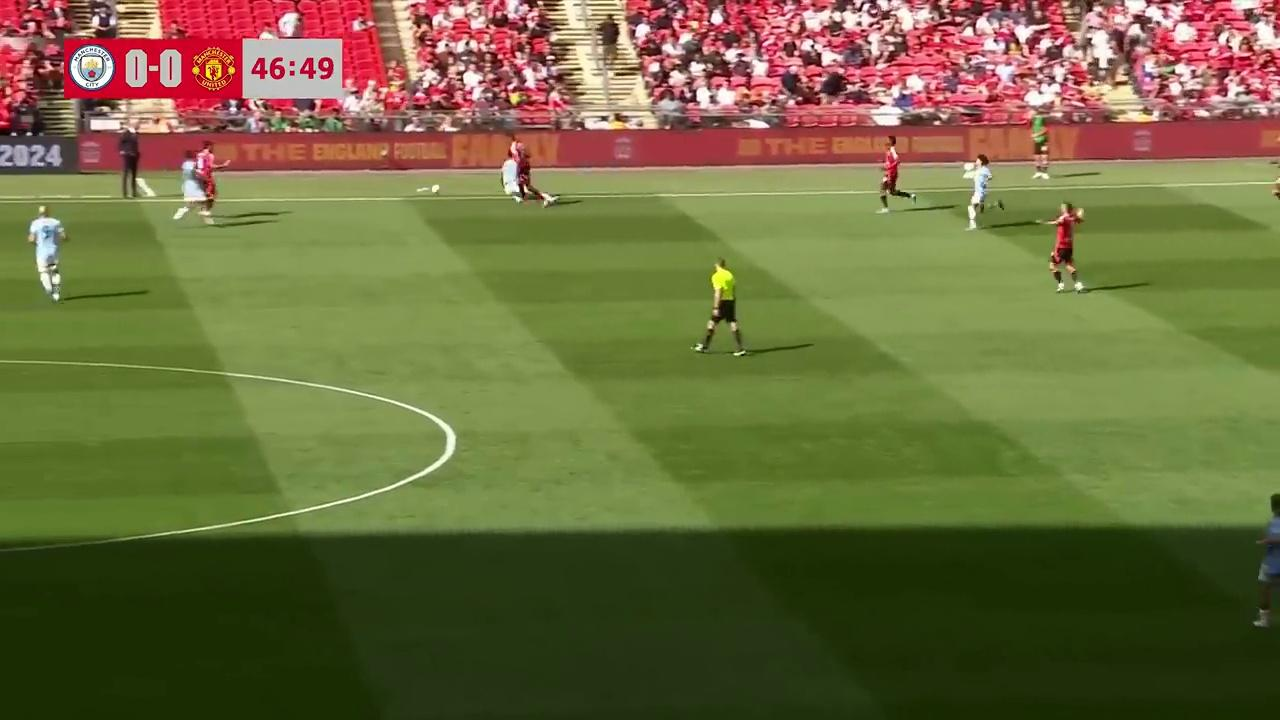ball: (431, 183, 443, 193)
player: (1252, 492, 1280, 631), (27, 204, 66, 300), (1048, 202, 1084, 293), (513, 148, 555, 206), (965, 158, 998, 229), (202, 139, 228, 221), (172, 144, 198, 224), (877, 145, 906, 213), (498, 147, 518, 210), (1270, 161, 1280, 214)
referee: (694, 259, 745, 355)
